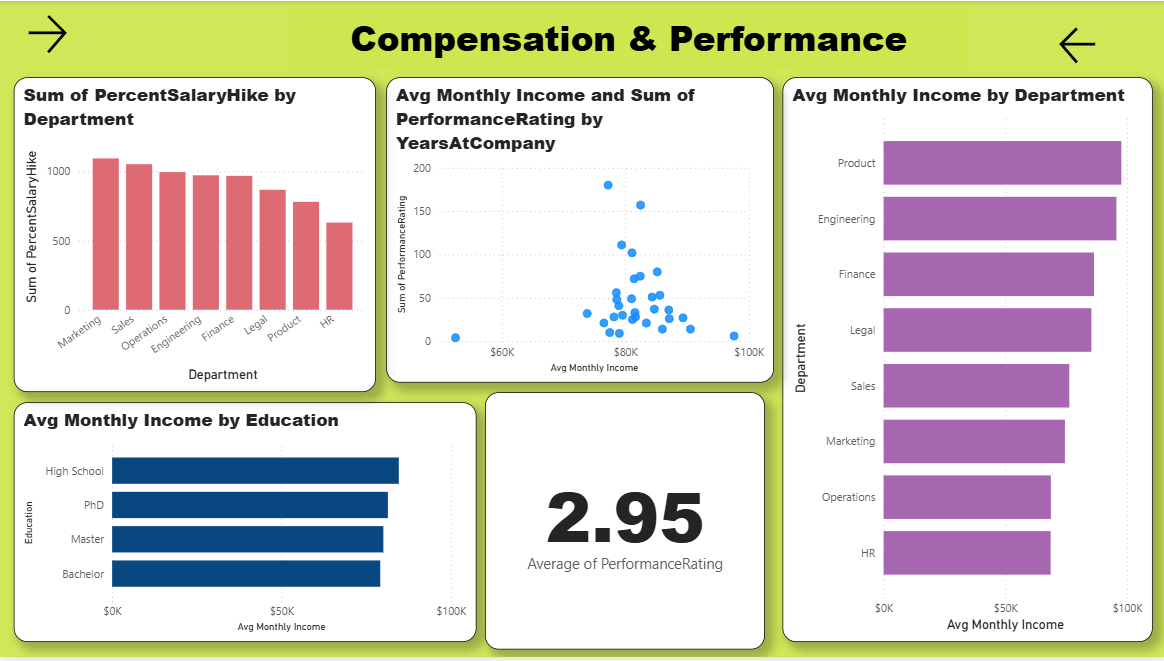

What the dashboard file says about the page in this screenshot:
{"tool":"powerbi","page":{"name":"Page 3","canvas":[1280,720],"ordinal":2},"visuals":[{"type":"clusteredBarChart","fields":{"Category":["HR_Analytics_Dataset.Department"],"Y":["HR_Analytics_Dataset.Avg Monthly Income"]},"box":[859,83.7,406.2,620.2],"z":0},{"type":"scatterChart","fields":{"X":["HR_Analytics_Dataset.Avg Monthly Income"],"Y":["Sum(HR_Analytics_Dataset.PerformanceRating)"],"Category":["HR_Analytics_Dataset.YearsAtCompany"]},"box":[423.5,83.2,425.9,335.4],"z":1000},{"type":"barChart","fields":{"Category":["HR_Analytics_Dataset.Education"],"Y":["HR_Analytics_Dataset.Avg Monthly Income"]},"box":[15.1,440.5,507.7,263.5],"z":2000},{"type":"clusteredColumnChart","fields":{"Category":["HR_Analytics_Dataset.Department"],"Y":["Sum(HR_Analytics_Dataset.PercentSalaryHike)"]},"box":[15.1,83.7,397.9,345.8],"z":3000},{"type":"card","fields":{"Values":["Avg(HR_Analytics_Dataset.PerformanceRating)"]},"box":[532.4,429.5,307.4,282.7],"z":4000},{"type":"actionButton","box":[24.7,9.6,61.7,53.5],"z":5000},{"type":"textbox","box":[318.4,9.6,743.7,64.5],"z":6000},{"type":"actionButton","box":[1158.2,23.3,64.5,50.8],"z":7000}]}

Visuals, with their boxes in screenshot pixels (x1, y1, x2, y2), scaled from the page's 1280x720 canvas onto the 1164x661 screenshot:
clusteredBarChart - HR_Analytics_Dataset.Department x HR_Analytics_Dataset.Avg Monthly Income: locate(781, 77, 1151, 646)
scatterChart - HR_Analytics_Dataset.Avg Monthly Income x Sum(HR_Analytics_Dataset.PerformanceRating): locate(385, 76, 772, 384)
barChart - HR_Analytics_Dataset.Education x HR_Analytics_Dataset.Avg Monthly Income: locate(14, 404, 475, 646)
clusteredColumnChart - HR_Analytics_Dataset.Department x Sum(HR_Analytics_Dataset.PercentSalaryHike): locate(14, 77, 376, 394)
card - Avg(HR_Analytics_Dataset.PerformanceRating): locate(484, 394, 764, 654)
actionButton: locate(22, 9, 79, 58)
textbox: locate(290, 9, 966, 68)
actionButton: locate(1053, 21, 1112, 68)
